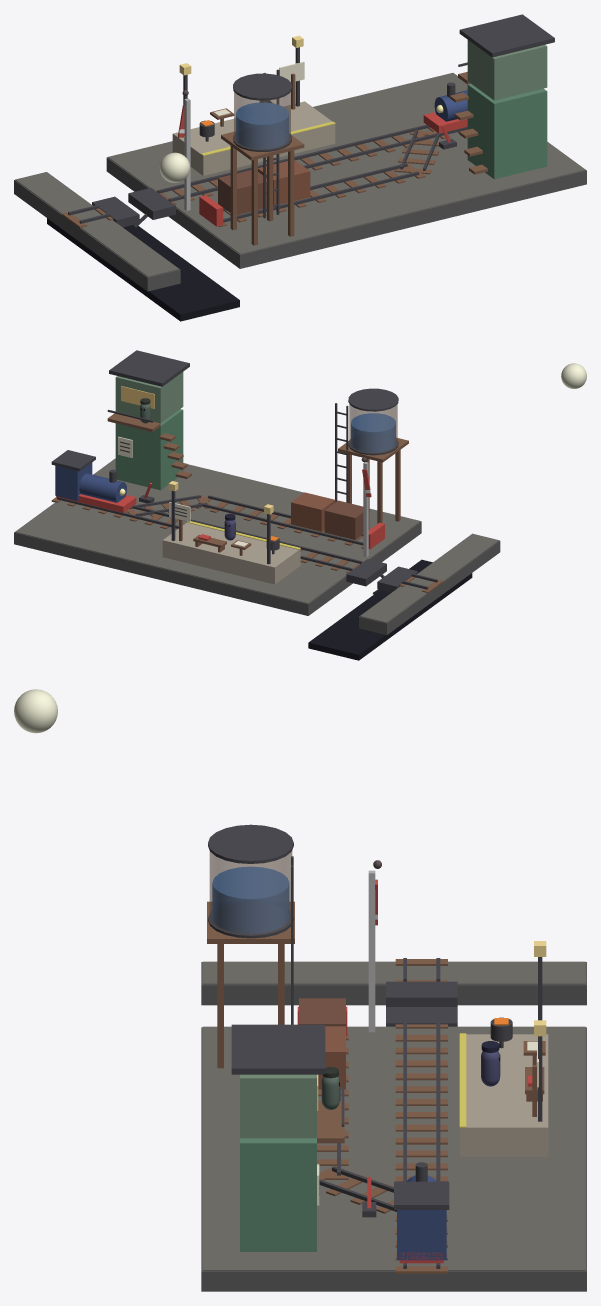
The model's file is level_04.obj.
3 views of the same model, one above another, from view 1: azimuth 30°, elevation 25°; view 2: azimuth 150°, elevation 25°; view 3: azimuth 270°, elevation 25° (orthographic). The views are drawn at different scales.
Parts seen in each view (by area): view 1: _set, siding, _program, track, freight, bridge, tank, express, signal_arm, timetable, tower; view 2: _set, express, freight, siding, _program, track, bridge, tank, tower, signal_arm, box; view 3: _set, track, _program, express, bridge, tank, siding, freight, signal_arm, box, stationmaster.
Boxes of the visible parts, x1,y1,x2,y2 form: _set: (14, 14, 586, 321); siding: (199, 129, 444, 227); _program: (234, 92, 290, 149); track: (156, 124, 467, 204); freight: (218, 160, 310, 214); bridge: (62, 187, 175, 228); tank: (233, 73, 291, 151); express: (423, 82, 467, 133); signal_arm: (178, 90, 190, 210); timetable: (279, 61, 304, 109); tower: (263, 69, 279, 218); _set: (14, 350, 586, 660); express: (51, 450, 136, 512); freight: (291, 492, 369, 539); siding: (127, 495, 384, 549); _program: (349, 404, 397, 452); track: (51, 497, 363, 573); bridge: (346, 559, 443, 594); tank: (348, 388, 398, 455); tower: (335, 403, 348, 502); signal_arm: (361, 457, 371, 557); box: (107, 409, 160, 432); _set: (14, 689, 586, 1291); track: (395, 1021, 447, 1273); _program: (209, 851, 292, 934); express: (394, 1162, 449, 1263); bridge: (386, 958, 457, 1026); tank: (208, 824, 293, 938); siding: (297, 1006, 396, 1213); freight: (299, 998, 345, 1089); signal_arm: (368, 860, 381, 1032); box: (317, 1087, 344, 1143); stationmaster: (481, 1041, 500, 1086).
Size of the model in its own units: 14.71 by 6.5 by 10.4.
